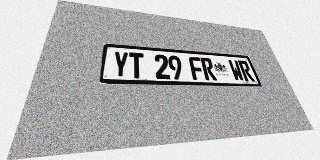2: (154, 54, 170, 79)
9: (167, 55, 184, 80)
F: (188, 57, 205, 80)
R: (237, 60, 255, 82), (200, 57, 217, 80)
T: (129, 52, 144, 79)
W: (227, 59, 245, 81)
Y: (112, 51, 129, 78)
